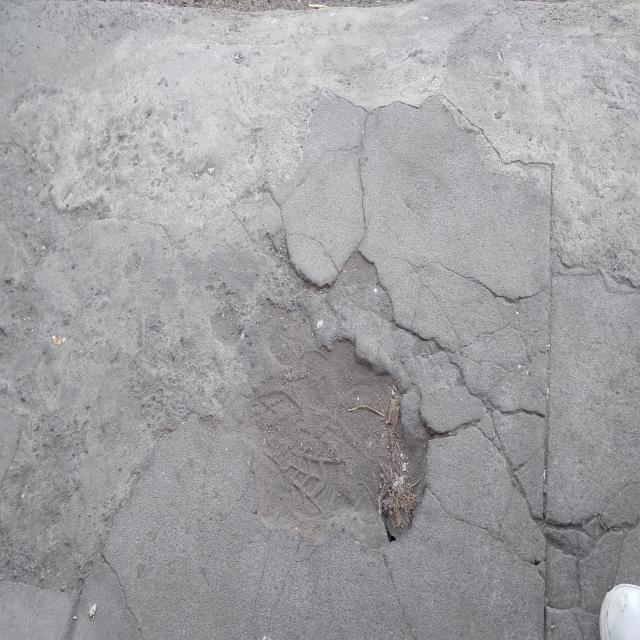hole: (243, 300, 430, 548)
